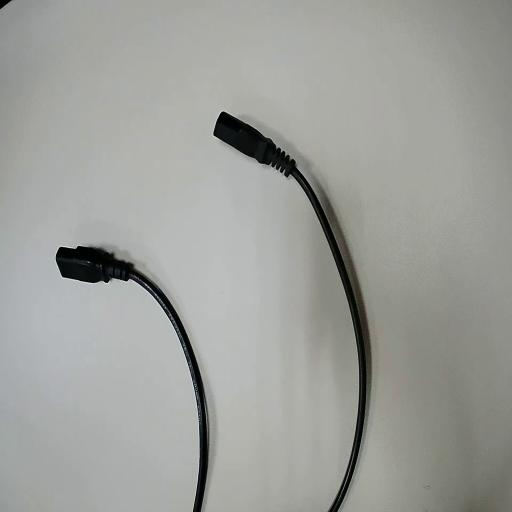wire: (215, 113, 367, 511), (57, 247, 207, 511)
